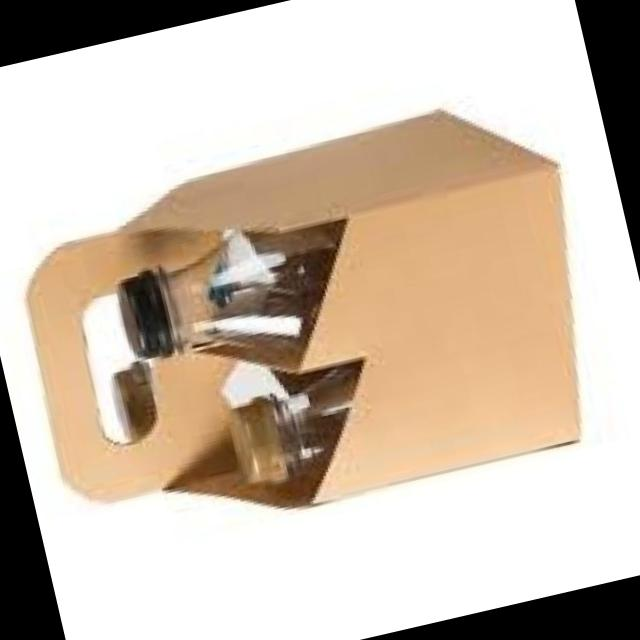cardboard paper: (25, 114, 576, 508)
